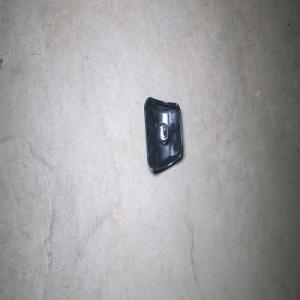LuggagePart: (143, 96, 183, 174)
